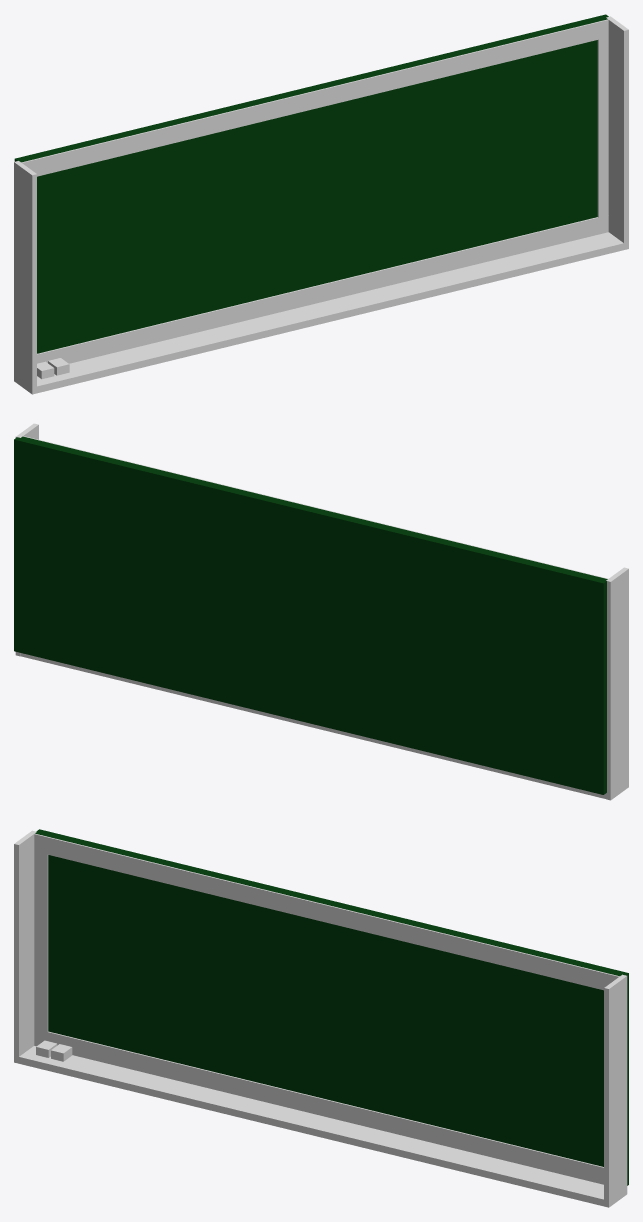
The model's file is Blackboard.fbx.
3 views of the same model, one above another, from view 1: azimuth 30°, elevation 25°; view 2: azimuth 150°, elevation 25°; view 3: azimuth 330°, elevation 25° (orthographic).
Visible parts, largest first — view 1: 큐브, Cube, Cube.006, Cube.007, 큐브.002, 큐브.003, Cube.009; view 2: 큐브, 큐브.002, Cube, Cube.006; view 3: 큐브, Cube, Cube.006, Cube.007, 큐브.003, 큐브.002, Cube.002.
Part boxes in pixels (x1,y1,x2,y2): 큐브: [14, 14, 608, 353]; Cube: [37, 232, 623, 393]; Cube.006: [21, 19, 608, 176]; Cube.007: [37, 215, 608, 363]; 큐브.002: [14, 161, 36, 394]; 큐브.003: [606, 16, 628, 249]; Cube.009: [597, 37, 608, 217]; 큐브: [14, 436, 607, 794]; 큐브.002: [606, 567, 628, 800]; Cube: [21, 653, 605, 798]; Cube.006: [23, 436, 608, 578]; 큐브: [35, 829, 628, 1185]; Cube: [19, 1046, 603, 1206]; Cube.006: [34, 833, 619, 990]; Cube.007: [34, 1029, 603, 1184]; 큐브.003: [604, 974, 627, 1207]; 큐브.002: [14, 830, 36, 1063]; Cube.002: [34, 851, 48, 1031].
Size of what is drawn, in the model's own units: 1202 by 422 by 75.12.
